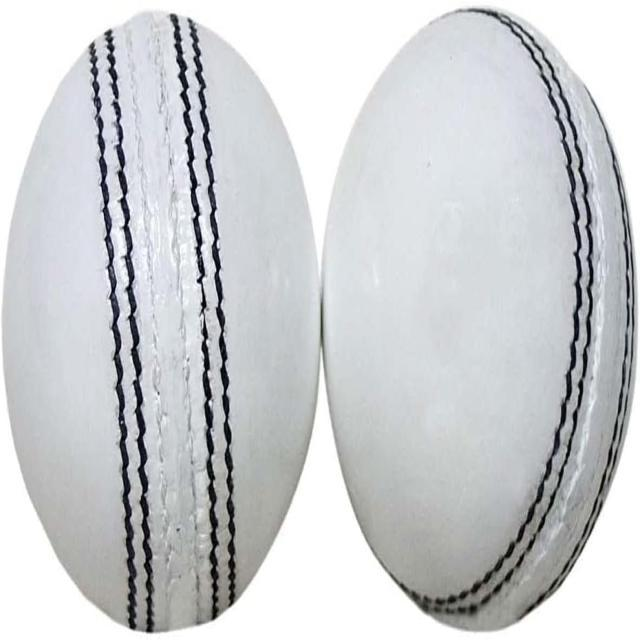cricket ball: (320, 5, 639, 633), (1, 10, 321, 634)
